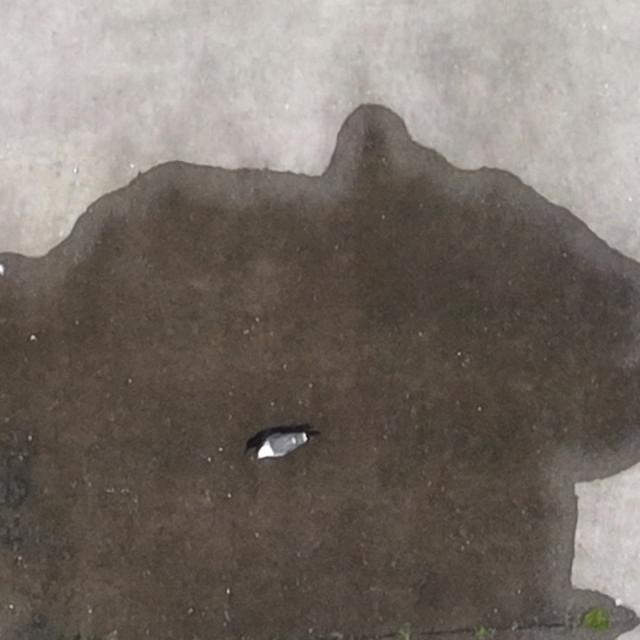umineko: (258, 433, 304, 456)
